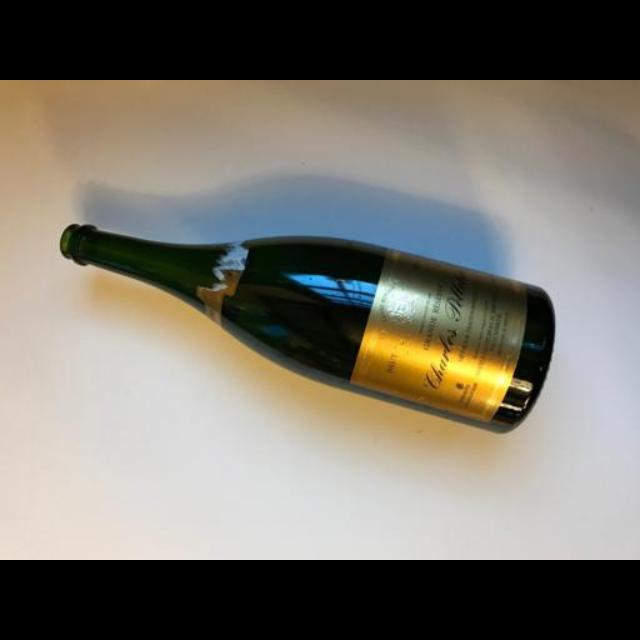garrafa de vidro: (59, 222, 558, 436)
